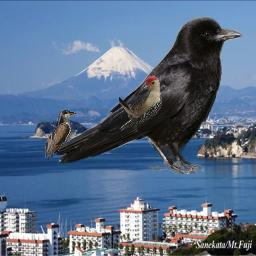Crow: (50, 16, 244, 174)
Cuckoo: (45, 110, 85, 160)
Woodpecker: (119, 76, 162, 132)
